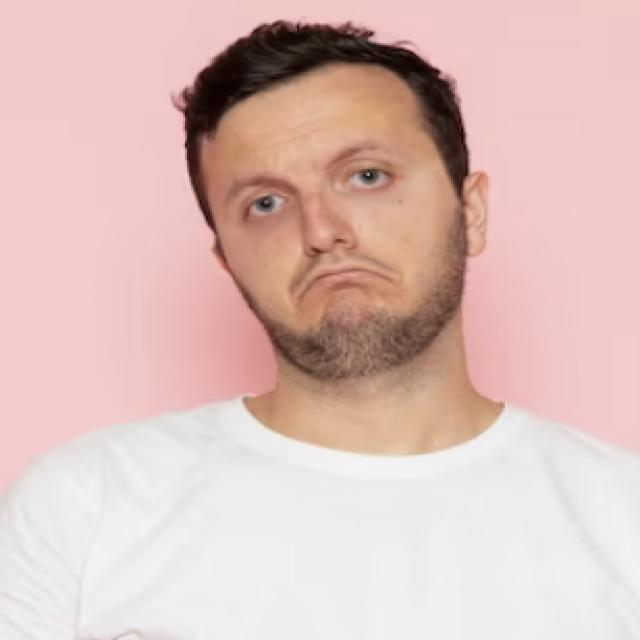sad: (211, 98, 464, 344)
